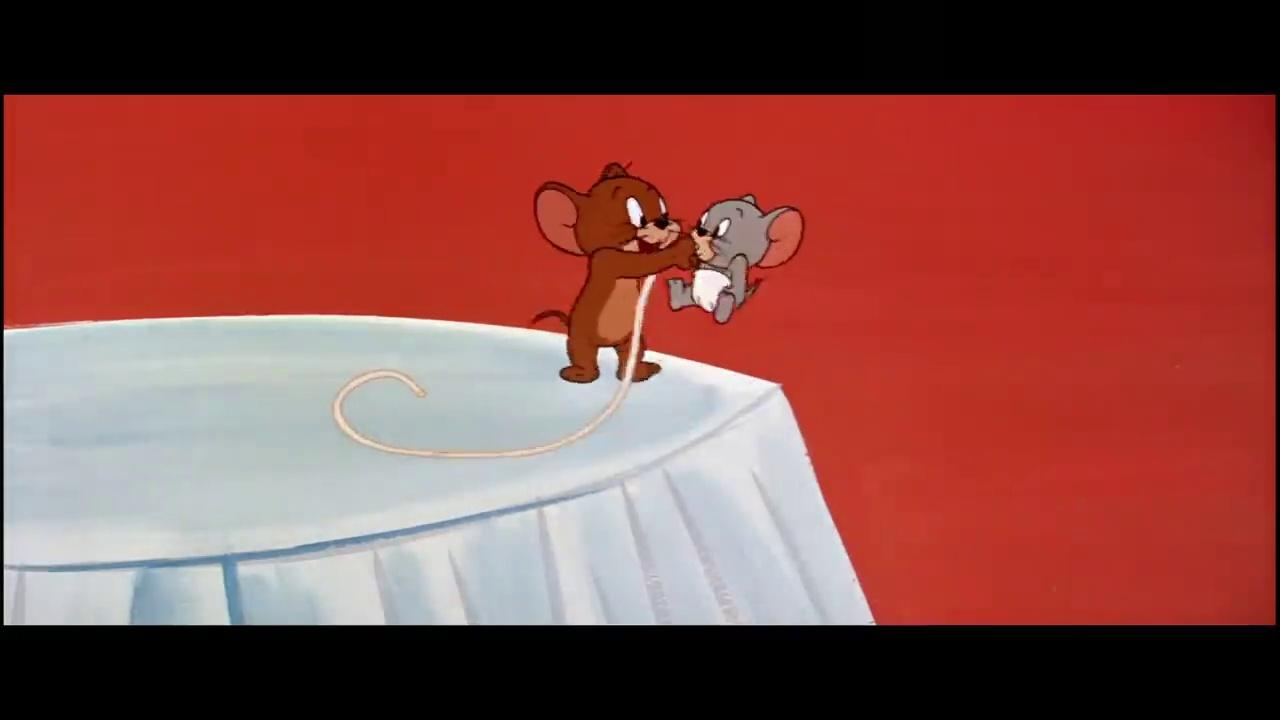Jerry: (528, 163, 701, 386)
